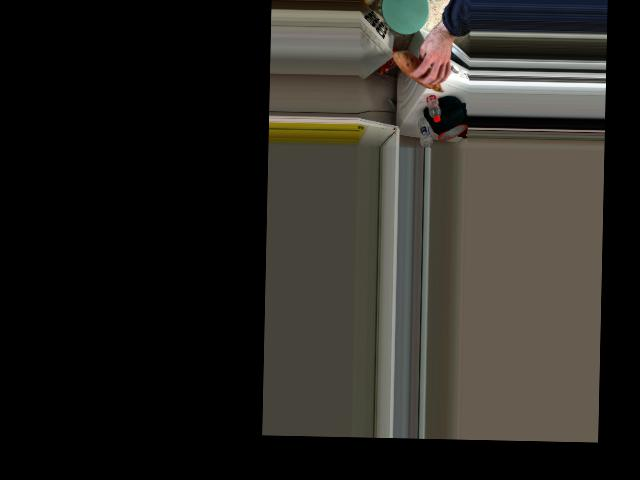sweet_potato: (395, 52, 448, 90)
